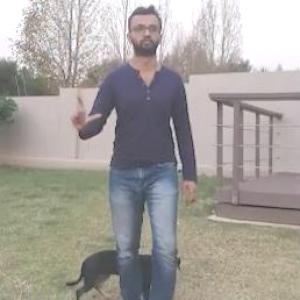land_hand: (68, 90, 102, 132)
